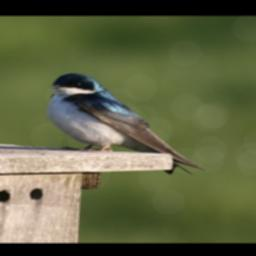Swallow: (44, 72, 206, 181)
